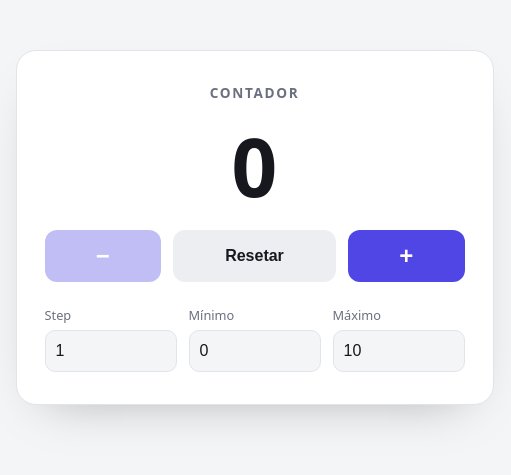
Scenario: Counter › resets to min when min is greater than 0
Step 1. Clear the number field labelled "Mínimo" → (254, 350), box x1=188 y1=330 x2=320 y2=372
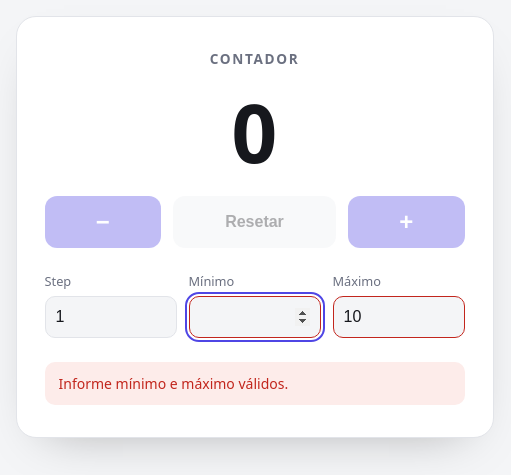
Step 2. Type "3" into the number field labelled "Mínimo" → (254, 317), box x1=188 y1=296 x2=320 y2=338
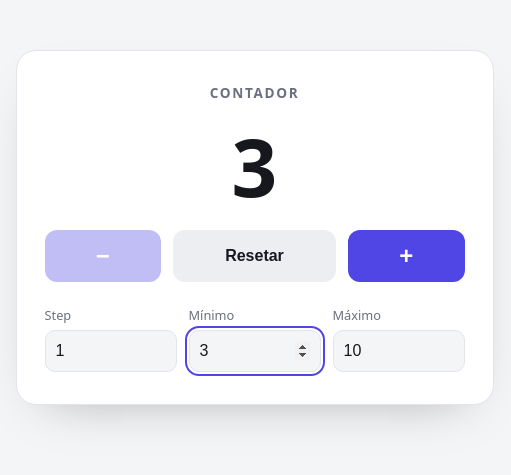
Step 3. Click the button named "Incrementar" → (406, 256), box x1=348 y1=230 x2=464 y2=282
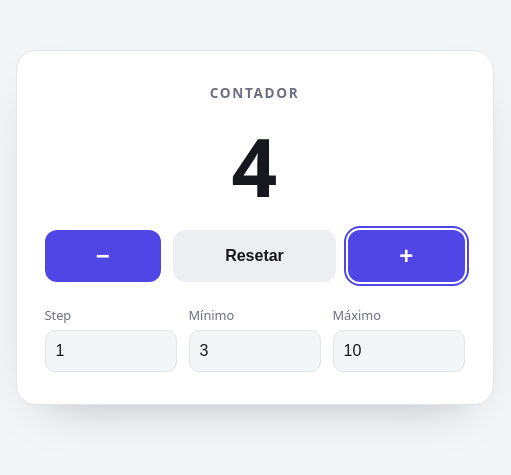
Step 4. Click the button "Resetar" → (254, 256), box x1=173 y1=230 x2=336 y2=282
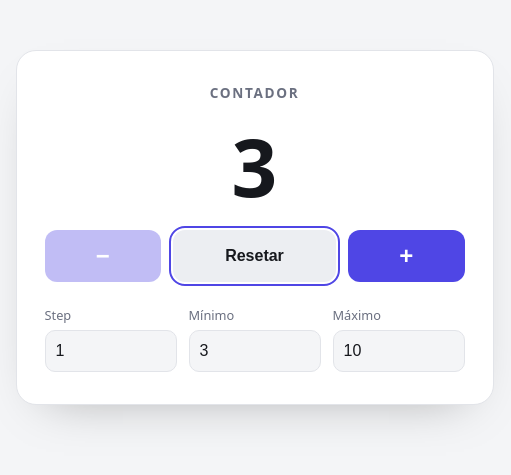
Result: the text named "Valor atual" reads "3" at x1=232 y1=110 x2=277 y2=220
